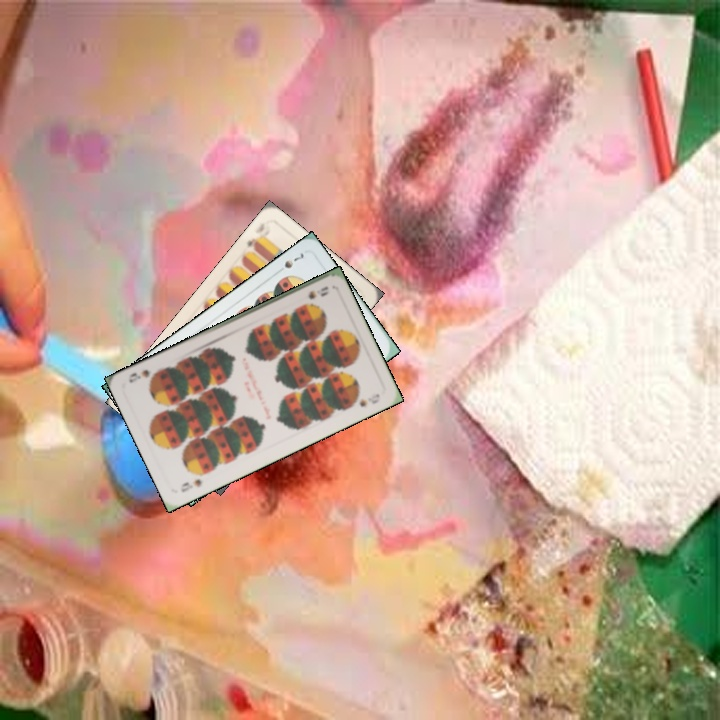E10: (243, 229, 263, 253)
S7: (280, 249, 307, 271)
S9: (304, 282, 331, 302), (177, 475, 204, 495)
